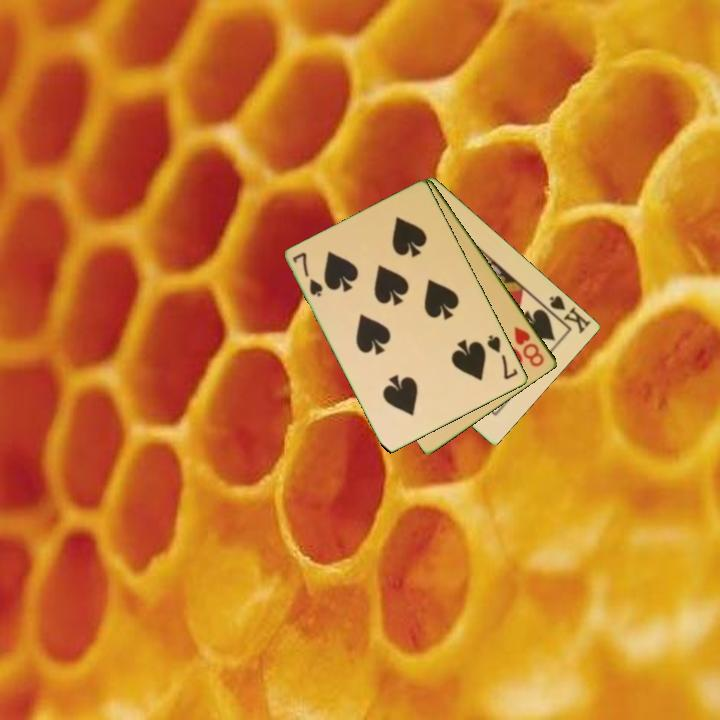7s: (484, 331, 521, 383), (289, 249, 326, 300)
8h: (511, 323, 548, 370)
Ks: (539, 292, 594, 337)
